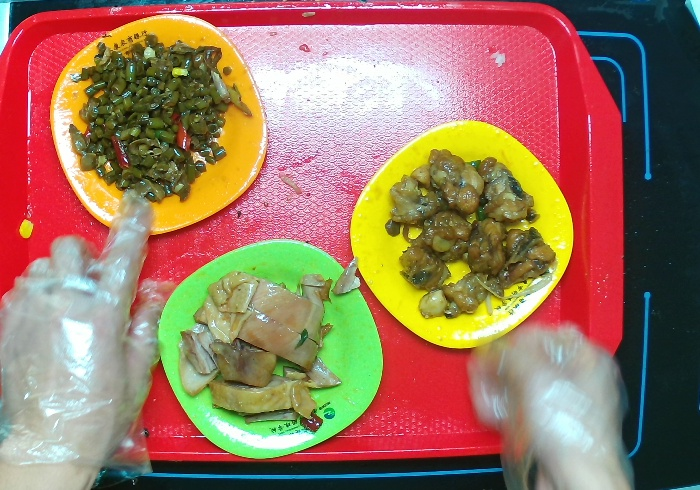YKMZ-Huang_Se_Fang_Die: (347, 115, 580, 352)
YKMZ-Ju_Se_Fang_Die: (47, 8, 276, 243)
YKMZ-Lv_Se_Fang_Die: (152, 235, 388, 464)
